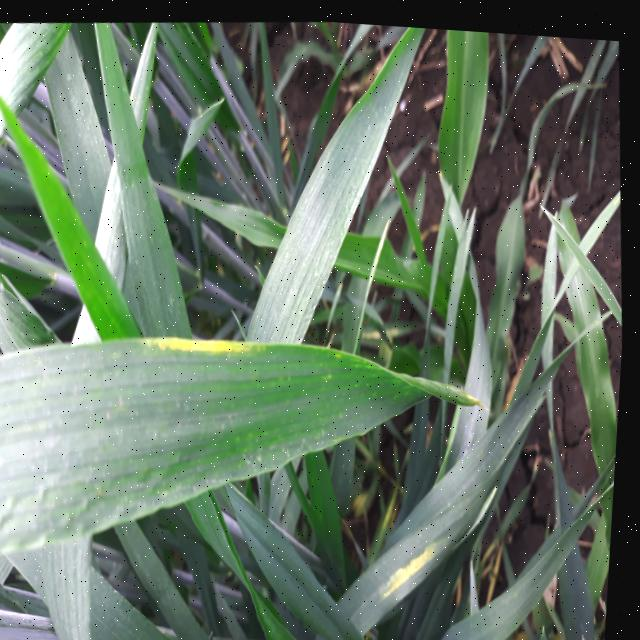yellow_rust: (33, 288, 459, 588), (344, 429, 464, 626), (450, 518, 520, 619)
